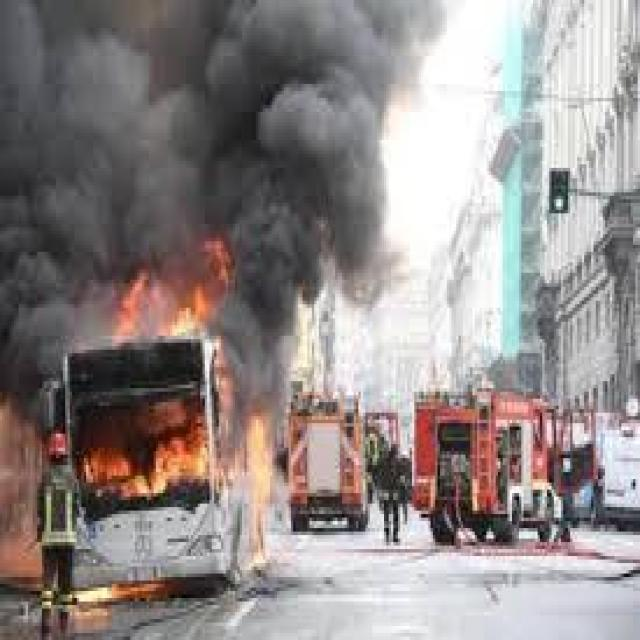fire: (5, 364, 328, 600), (93, 214, 234, 332)
smoke: (0, 0, 377, 346)
